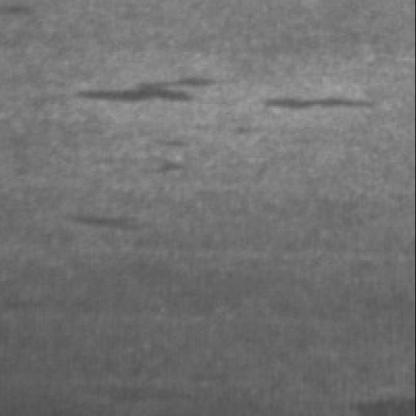inclusion: (77, 71, 223, 102), (264, 87, 383, 115), (69, 206, 158, 239), (154, 131, 198, 175)
